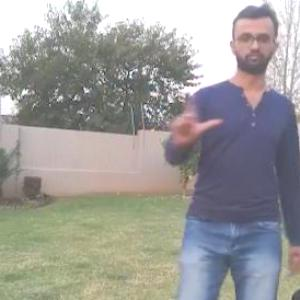land_hand: (166, 86, 224, 144)
